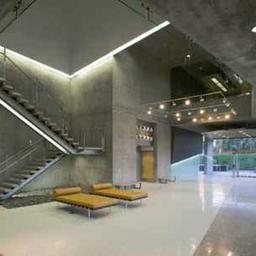Escaleras: (4, 65, 100, 204)
